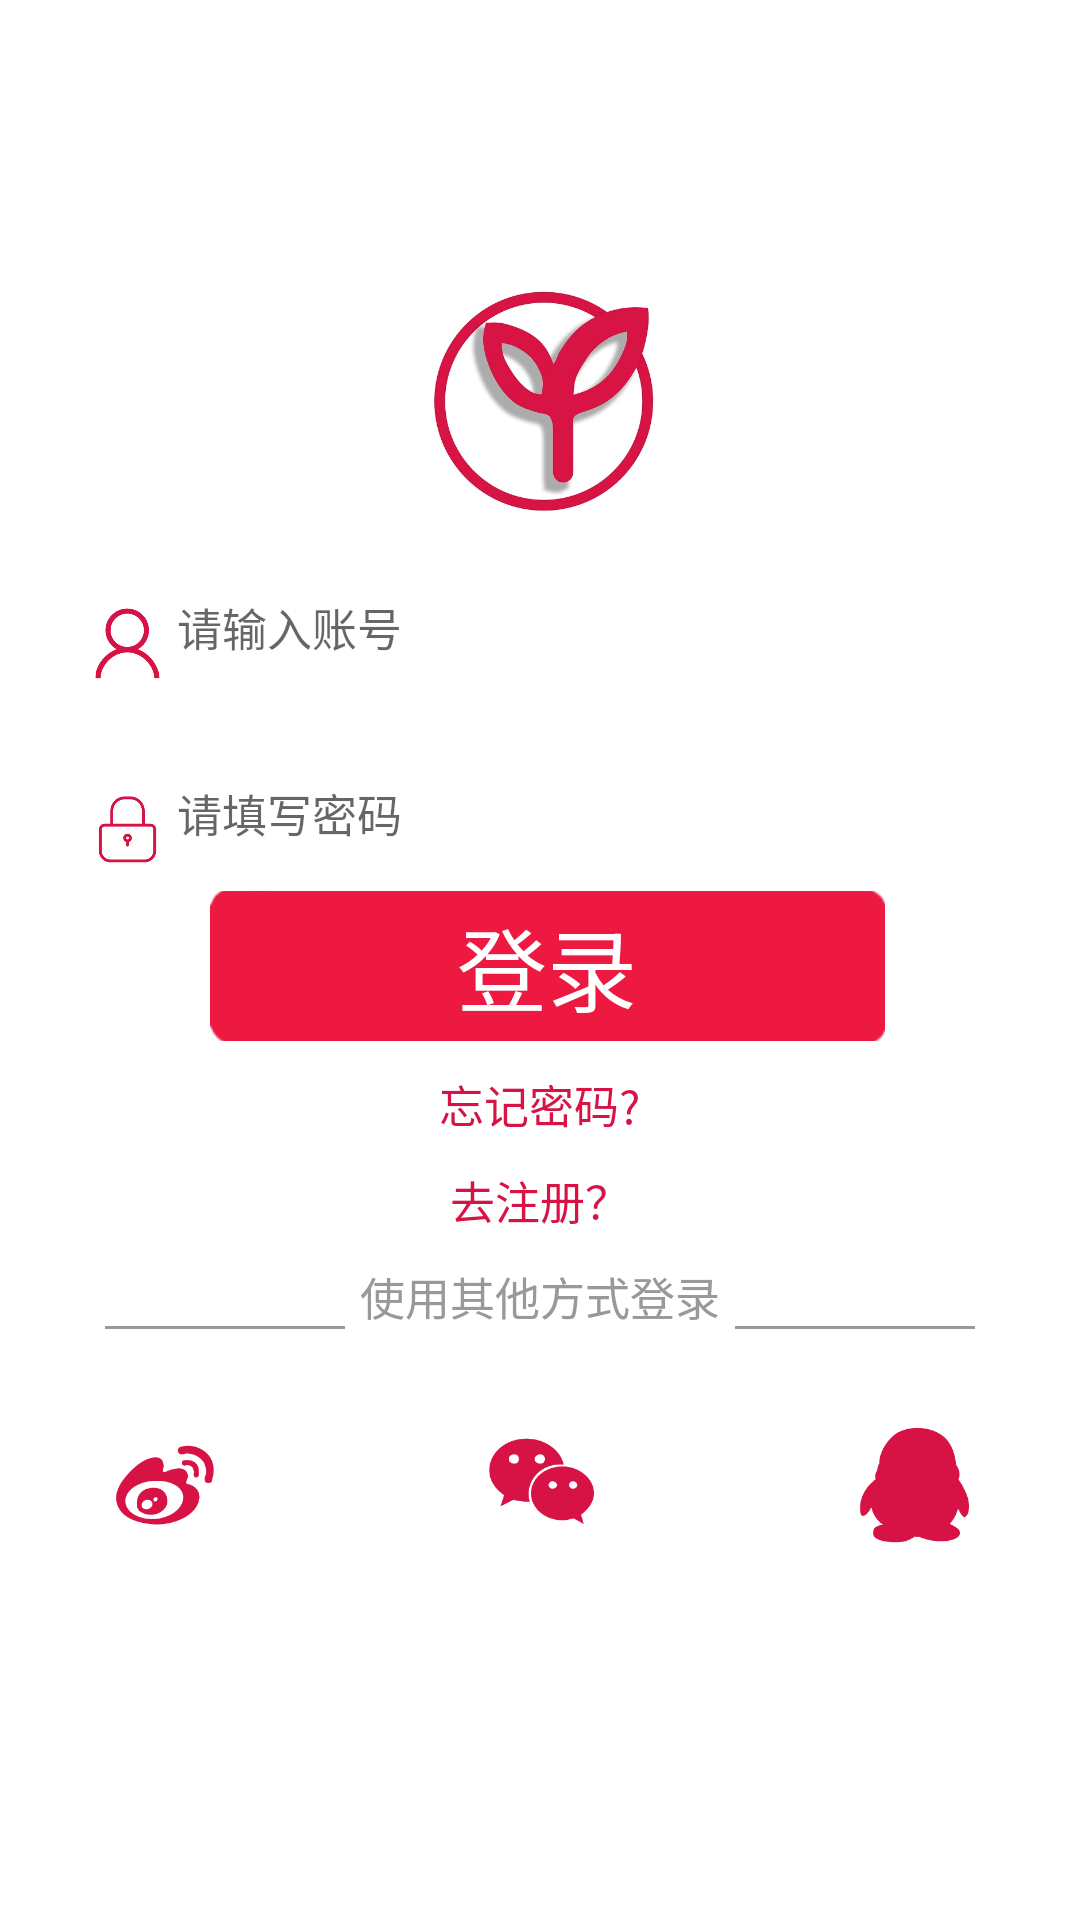

Point at icon controls on the screen. Image size 1080*1920, points as point (x, y).
ren: point (127, 643)
